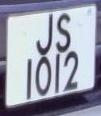0: (34, 54, 54, 101)
1: (23, 56, 36, 103), (53, 52, 64, 98)
2: (60, 49, 82, 97)
J: (33, 12, 56, 59)
S: (54, 11, 74, 57)
